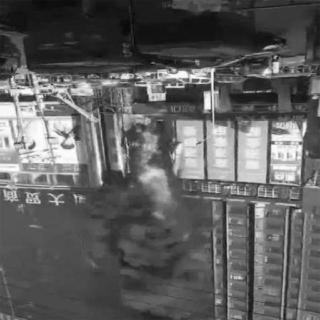Smoke: (80, 198, 200, 314)
